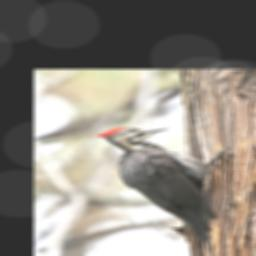Woodpecker: (94, 127, 232, 252)
